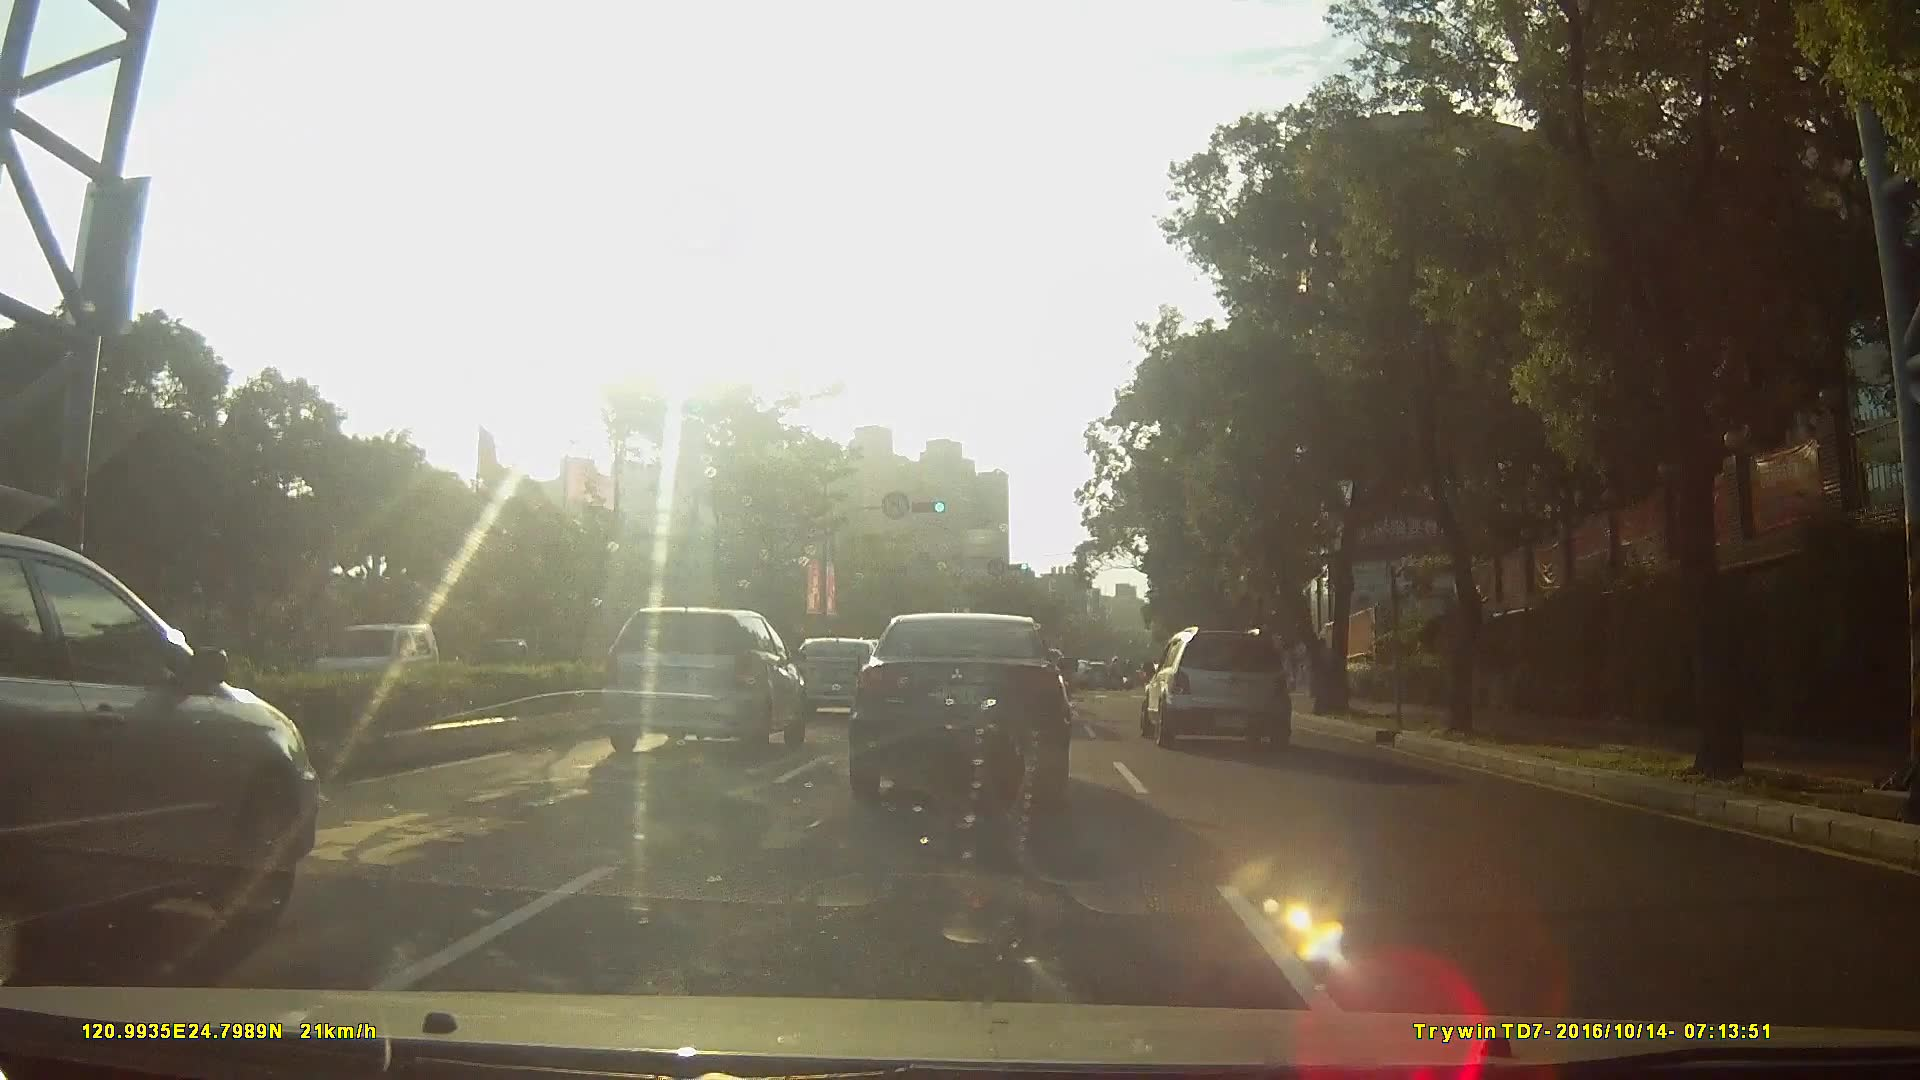vehicle: (1, 533, 343, 994), (847, 617, 1071, 816), (593, 607, 804, 756), (1137, 620, 1304, 746), (305, 624, 447, 704), (781, 637, 895, 719), (1075, 659, 1109, 691)
